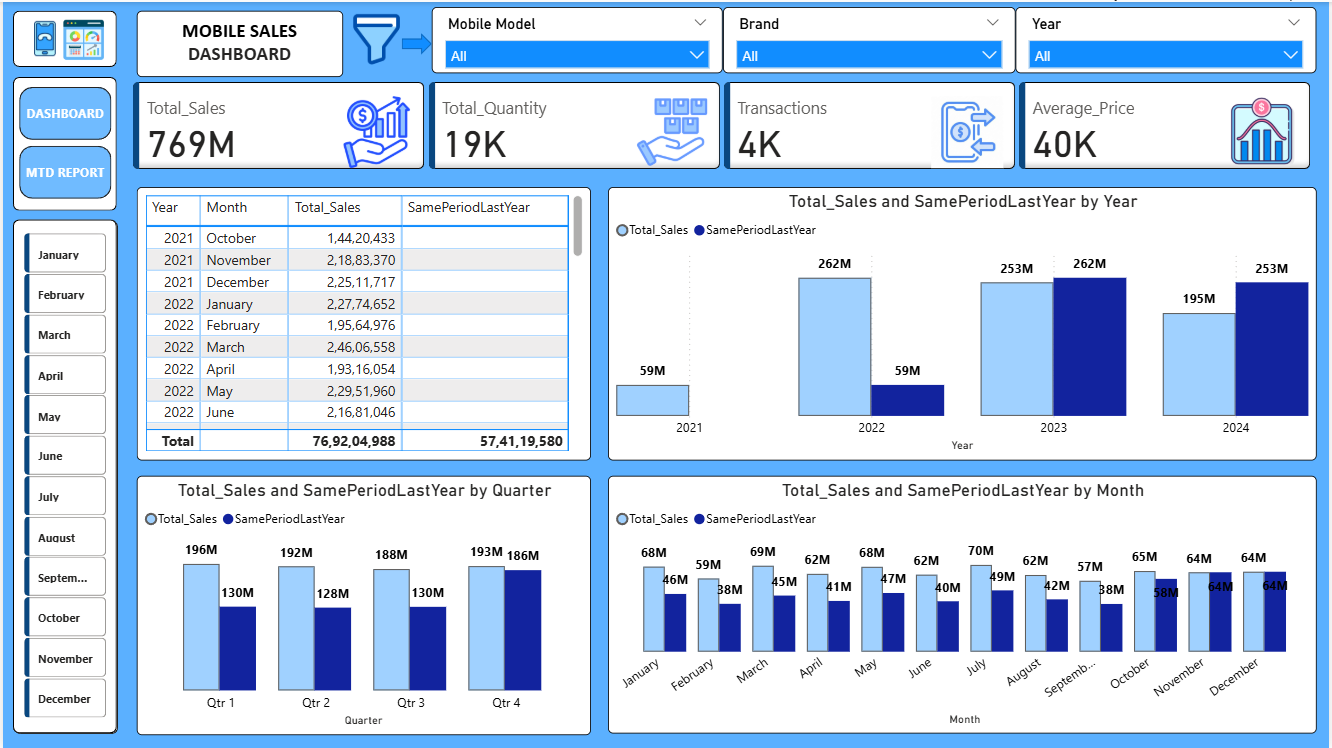

This screenshot's page, from the dashboard's own definition file:
{"tool":"powerbi","page":{"name":"SAME PERIOD LAST YEAR","canvas":[1280,720],"ordinal":2},"visuals":[{"type":"shape","box":[9.7,8.4,100.1,54.3],"z":0},{"type":"image","box":[9.7,12.1,61.5,47.1],"z":1000},{"type":"shape","box":[9.7,72.4,100.1,129.1],"z":2000},{"type":"textbox","box":[129.1,8.4,199.1,63.9],"z":3000},{"type":"shape","box":[11,211.3,100.2,495.4],"z":4000},{"type":"advancedSlicerVisual","fields":{"Values":["Custom_Calendar.Date.Variation.Date Hierarchy.Month"]},"box":[15.7,219.6,89.3,487.4],"z":4000},{"type":"cardVisual","fields":{"Data":["Sales_Data.Total_Sales","Sales_Data.Total_Quantity","Sales_Data.Transactions","Sales_Data.Average_Price"]},"box":[120.6,72.4,1147.3,94.1],"z":5000},{"type":"slicer","fields":{"Values":["Sales_Data.Mobile Model"]},"box":[413.8,4.8,281.1,63.9],"z":6000},{"type":"slicer","fields":{"Values":["Sales_Data.Brand"]},"box":[694.9,4.8,282.3,63.9],"z":7000},{"type":"slicer","fields":{"Values":["Custom_Calendar.Date.Variation.Date Hierarchy.Year"]},"box":[977.2,4.8,290.8,63.9],"z":8000},{"type":"image","box":[328.2,0,65.1,72.4],"z":9000},{"type":"shape","box":[384.9,30.2,29,20.5],"z":10000},{"type":"tableEx","fields":{"Values":["Custom_Calendar.Date.Variation.Date Hierarchy.Year","Custom_Calendar.Date.Variation.Date Hierarchy.Month","Sales_Data.Total_Sales","Sales_Data.SamePeriodLastYear"]},"box":[129.1,178.6,438.2,263.7],"z":11000},{"type":"clusteredColumnChart","fields":{"Category":["Custom_Calendar.Date.Variation.Date Hierarchy.Year","Custom_Calendar.Date.Variation.Date Hierarchy.Month"],"Y":["Sales_Data.Total_Sales","Sales_Data.SamePeriodLastYear"]},"box":[583.8,178.6,684.1,263.7],"z":13000},{"type":"clusteredColumnChart","fields":{"Category":["Custom_Calendar.Date.Variation.Date Hierarchy.Quarter"],"Y":["Sales_Data.Total_Sales","Sales_Data.SamePeriodLastYear"]},"box":[129.1,457.4,438.2,250],"z":14000},{"type":"clusteredColumnChart","fields":{"Category":["Custom_Calendar.Date.Variation.Date Hierarchy.Month"],"Y":["Sales_Data.Total_Sales","Sales_Data.SamePeriodLastYear"]},"box":[583.8,457.4,684.1,248.6],"z":15000},{"type":"pageNavigator","box":[15.7,82,89.3,109.8],"z":16000},{"type":"image","box":[55.5,7.2,49.5,56.7],"z":17502}]}

Visuals, with their boxes in screenshot pixels (x1, y1, x2, y2), scaled from the page's 1280x720 canvas onto the 1332x748 screenshot:
shape: box(10, 9, 114, 65)
image: box(10, 13, 74, 62)
shape: box(10, 75, 114, 209)
textbox: box(134, 9, 342, 75)
shape: box(11, 220, 116, 734)
advancedSlicerVisual - Custom_Calendar.Date.Variation.Date Hierarchy.Month: box(16, 228, 109, 734)
cardVisual - Sales_Data.Total_Sales x Sales_Data.Total_Quantity: box(125, 75, 1319, 173)
slicer - Sales_Data.Mobile Model: box(431, 5, 723, 71)
slicer - Sales_Data.Brand: box(723, 5, 1017, 71)
slicer - Custom_Calendar.Date.Variation.Date Hierarchy.Year: box(1017, 5, 1320, 71)
image: box(342, 0, 409, 75)
shape: box(401, 31, 431, 53)
tableEx - Custom_Calendar.Date.Variation.Date Hierarchy.Year x Custom_Calendar.Date.Variation.Date Hierarchy.Month: box(134, 186, 590, 460)
clusteredColumnChart - Custom_Calendar.Date.Variation.Date Hierarchy.Year x Custom_Calendar.Date.Variation.Date Hierarchy.Month: box(608, 186, 1319, 460)
clusteredColumnChart - Custom_Calendar.Date.Variation.Date Hierarchy.Quarter x Sales_Data.Total_Sales: box(134, 475, 590, 735)
clusteredColumnChart - Custom_Calendar.Date.Variation.Date Hierarchy.Month x Sales_Data.Total_Sales: box(608, 475, 1319, 733)
pageNavigator: box(16, 85, 109, 199)
image: box(58, 7, 109, 66)
